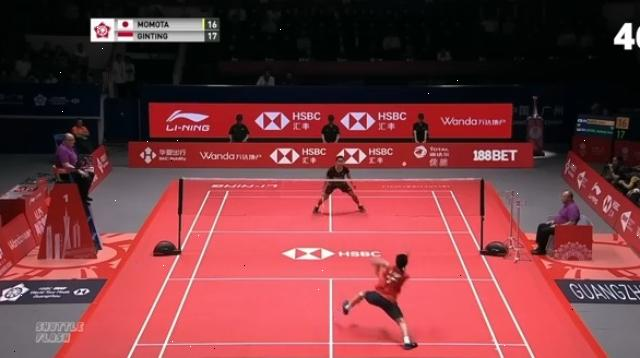Shuttlecock: (398, 158, 409, 170)
